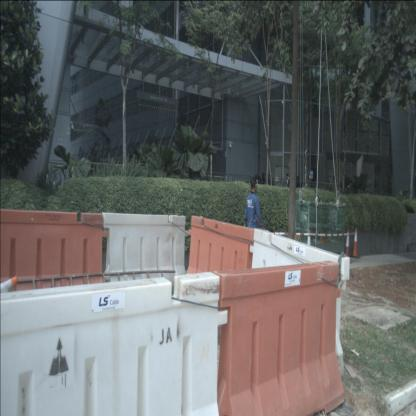barrier: (0, 271, 228, 415), (213, 260, 345, 416), (245, 227, 350, 378), (0, 209, 108, 315), (101, 212, 188, 298), (184, 214, 255, 313)
cone: (0, 275, 18, 302), (350, 228, 360, 258), (304, 230, 314, 259), (342, 230, 352, 258), (318, 231, 324, 244)
